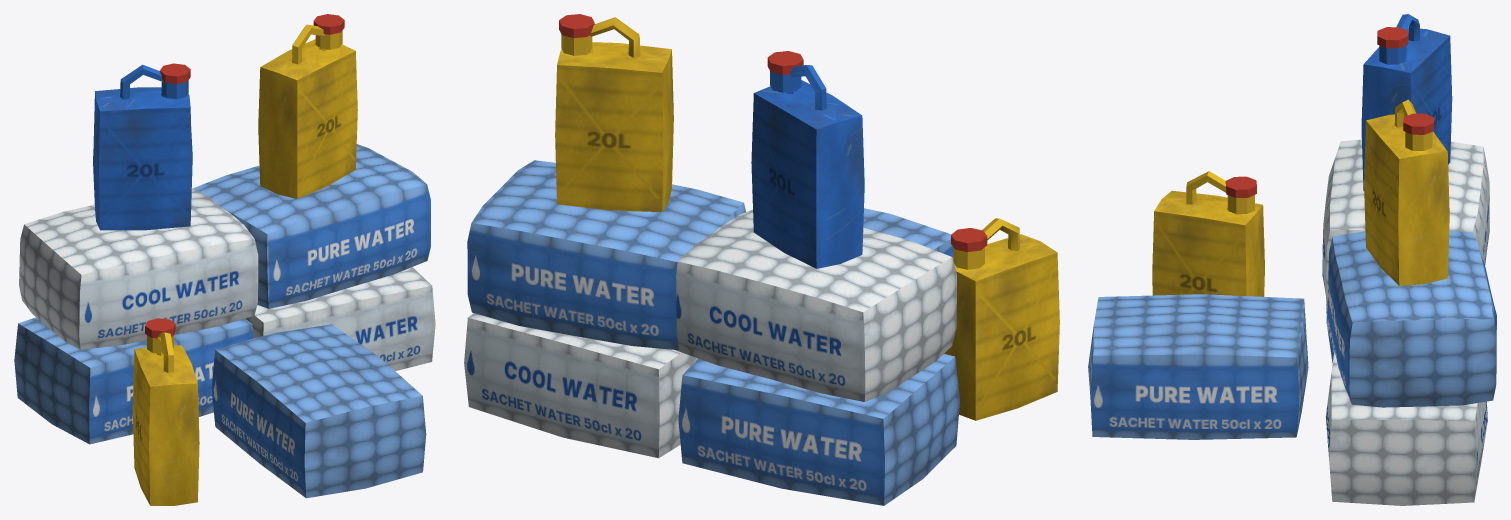
The model's file is prop_soft_cartons.glb.
3 renders of one model, left to right at view 1: azimuth 30°, elevation 25°; view 2: azimuth 150°, elevation 25°; view 3: azimuth 270°, elevation 25°, orthographic. The views are drawn at different scales.
Visible parts, largest first — view 1: prop_soft_cartons_body; view 2: prop_soft_cartons_body; view 3: prop_soft_cartons_body.
Part boxes in pixels (x1,y1,x2,y2): prop_soft_cartons_body: [14, 14, 435, 505]; prop_soft_cartons_body: [464, 14, 1059, 505]; prop_soft_cartons_body: [1088, 14, 1496, 505].
Bounding box in the file's own units: 0.8466 × 0.7455 × 0.763.
1 material, 1 textured.
